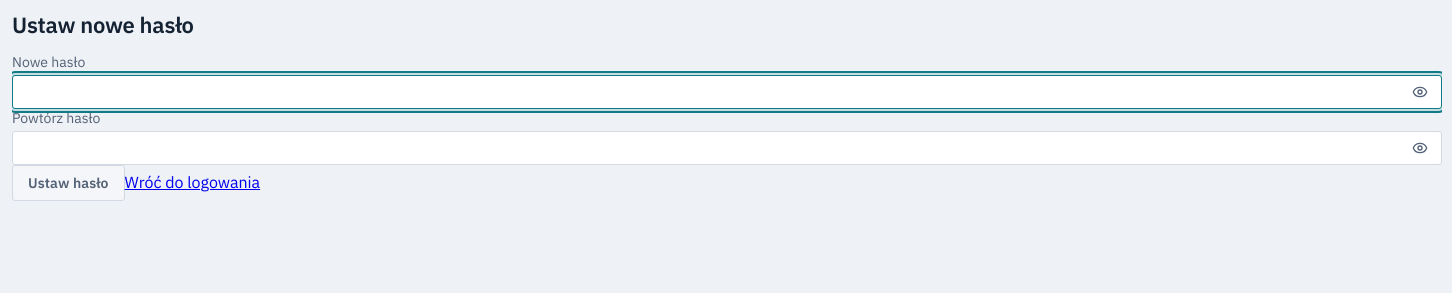
ustawienie nowego hasła z linku › za krótkie i niezgodne hasło — bez wysyłki
Type "krótkie" into the password field labelled "Nowe hasło".
click(727, 92); type("krótkie")  # box [12, 76, 1442, 110]
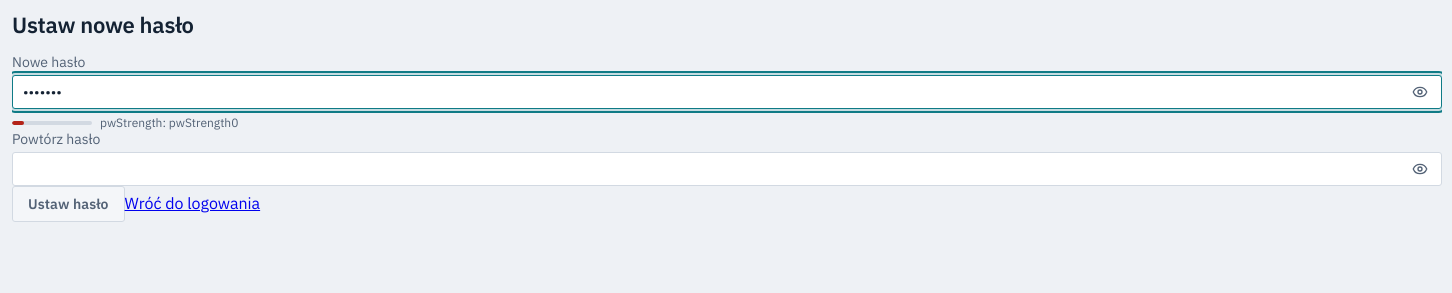
Type "krótkie" into the password field labelled "Powtórz hasło".
click(727, 170); type("krótkie")  # box [12, 152, 1442, 186]
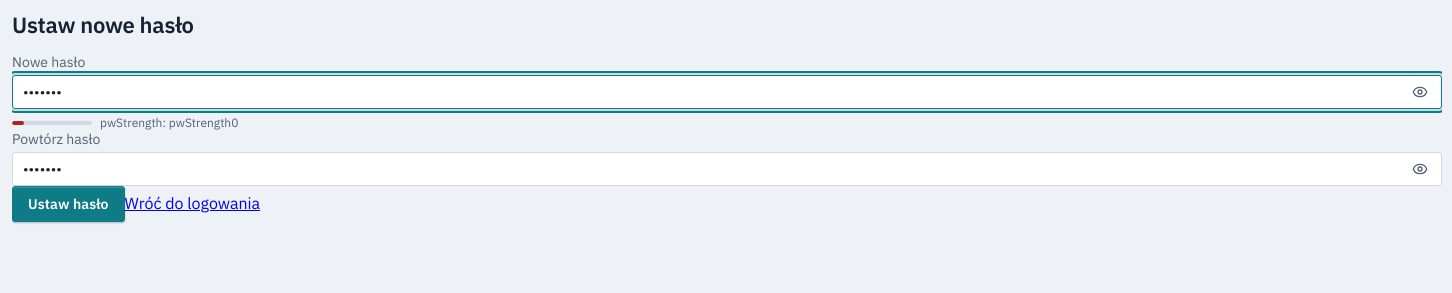
Click the button "Ustaw hasło".
click(68, 204)  # box [12, 186, 125, 222]
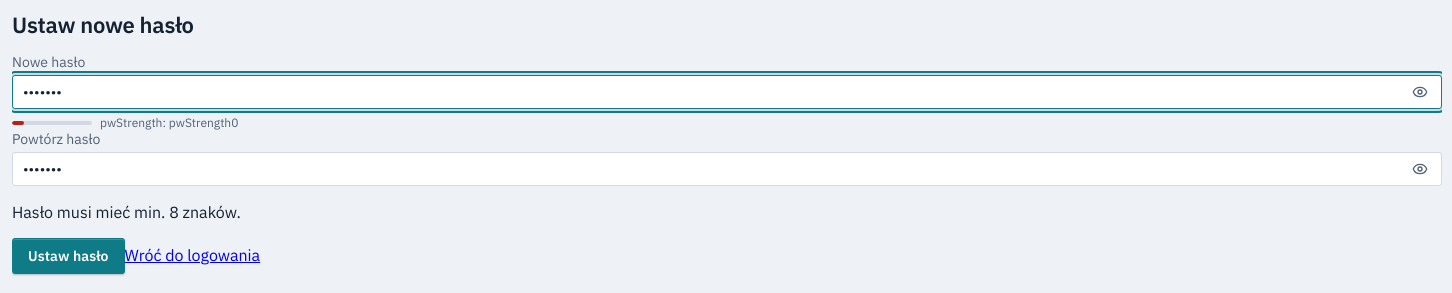
Result: the text "Hasło musi mieć min. 8 znaków." is shown at [12, 202, 241, 222]
Type "dlugiehaslo1" into the password field labelled "Nowe hasło".
click(727, 92); type("dlugiehaslo1")  # box [12, 76, 1442, 110]
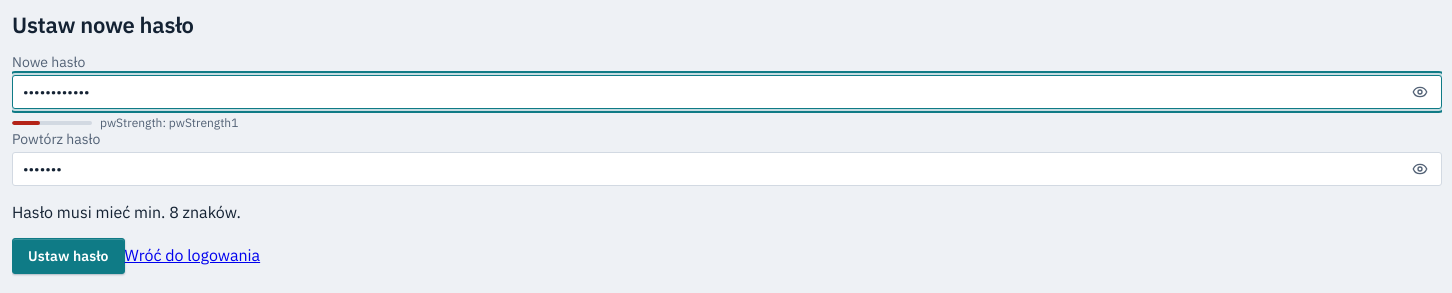
Type "dlugiehaslo2" into the password field labelled "Powtórz hasło".
click(727, 170); type("dlugiehaslo2")  # box [12, 152, 1442, 186]
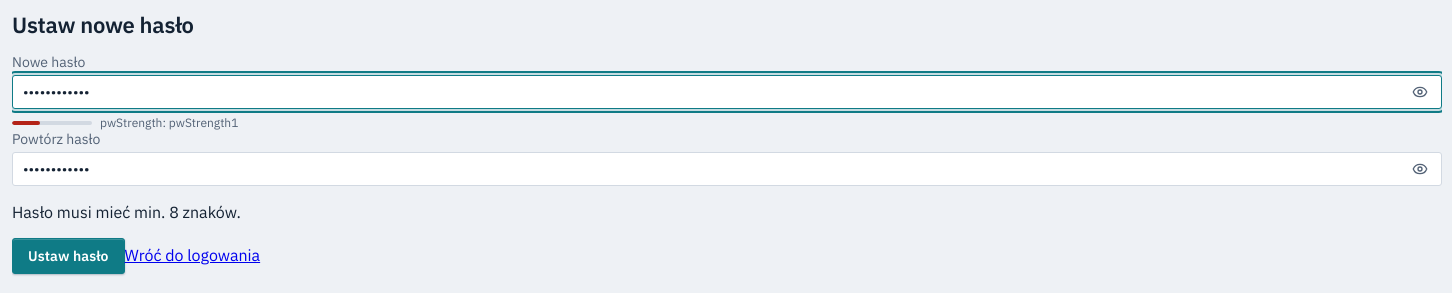
Click the button "Ustaw hasło".
click(68, 256)  # box [12, 238, 125, 274]
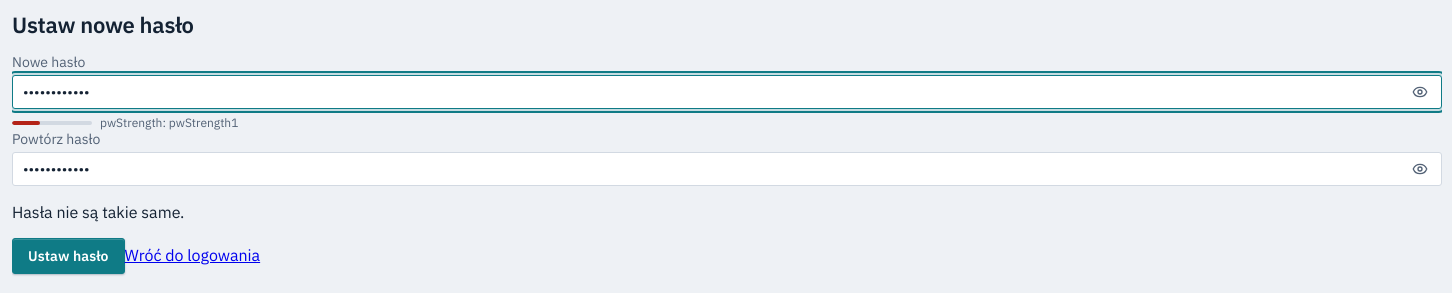
Result: the text "Hasła nie są takie same." is shown at [12, 202, 184, 222]
